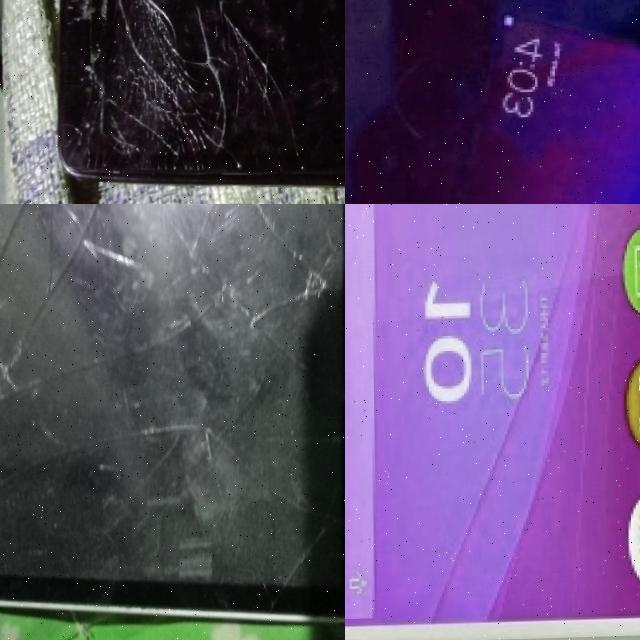screen crack: (0, 204, 345, 624), (56, 0, 284, 186)
